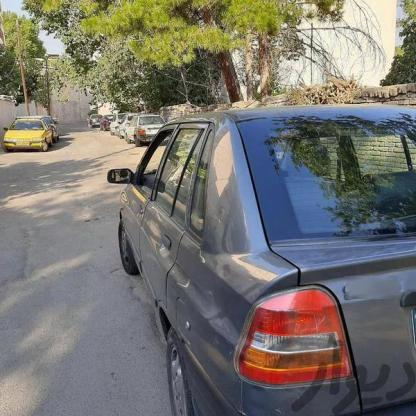Car: (111, 109, 416, 416), (0, 119, 64, 156), (134, 112, 169, 137), (107, 112, 130, 140), (90, 109, 108, 134)
